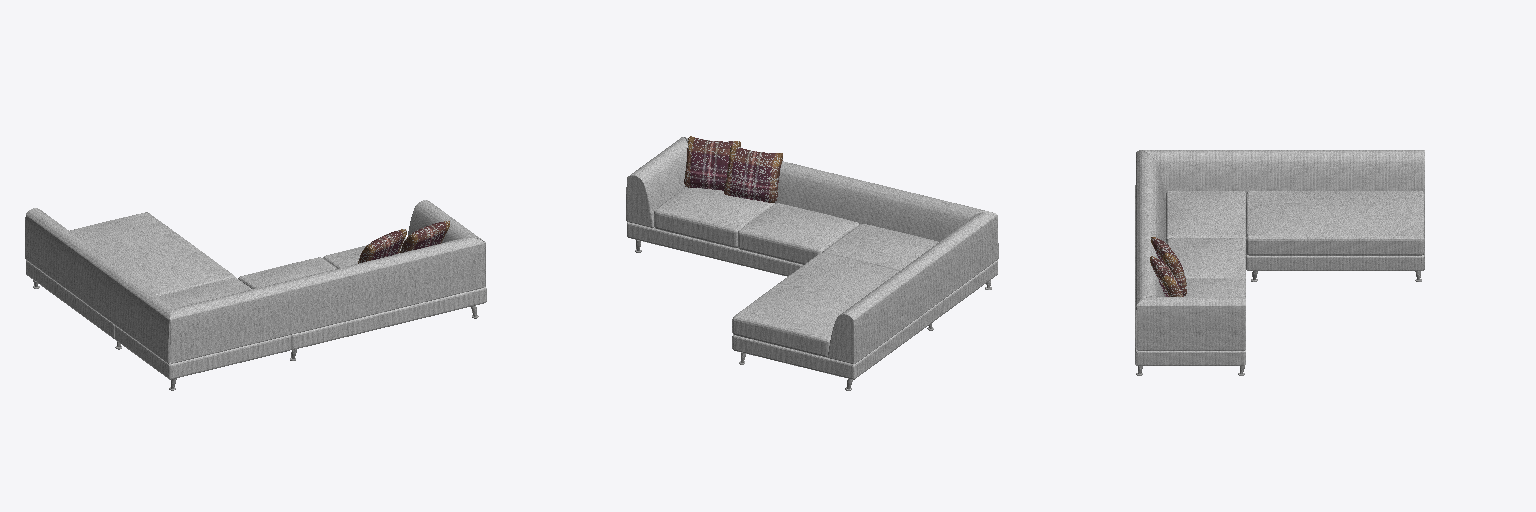
3 views of the same model, side by side, from view 1: azimuth 30°, elevation 25°; view 2: azimuth 150°, elevation 25°; view 3: azimuth 270°, elevation 25° (orthographic).
Visible parts, largest first — view 1: mesh53_mesh53-geometry, mesh2_mesh2-geometry, mesh55_mesh55-geometry, mesh54_mesh54-geometry, mesh1_mesh1-geometry, mesh56_mesh56-geometry, mesh57_mesh57-geometry, mesh58_mesh58-geometry; view 2: mesh53_mesh53-geometry, mesh2_mesh2-geometry, mesh1_mesh1-geometry, mesh55_mesh55-geometry, mesh56_mesh56-geometry, mesh54_mesh54-geometry, mesh57_mesh57-geometry, mesh58_mesh58-geometry; view 3: mesh2_mesh2-geometry, mesh53_mesh53-geometry, mesh56_mesh56-geometry, mesh1_mesh1-geometry, mesh55_mesh55-geometry, mesh54_mesh54-geometry, mesh57_mesh57-geometry, mesh58_mesh58-geometry.
Part boxes in pixels (bbox=[...]): mesh53_mesh53-geometry: bbox=[25, 208, 484, 363]; mesh2_mesh2-geometry: bbox=[70, 212, 252, 308]; mesh55_mesh55-geometry: bbox=[26, 260, 290, 379]; mesh54_mesh54-geometry: bbox=[291, 287, 486, 349]; mesh1_mesh1-geometry: bbox=[238, 237, 406, 288]; mesh56_mesh56-geometry: bbox=[408, 200, 485, 286]; mesh57_mesh57-geometry: bbox=[358, 229, 406, 263]; mesh58_mesh58-geometry: bbox=[400, 221, 449, 252]; mesh53_mesh53-geometry: bbox=[684, 137, 998, 363]; mesh2_mesh2-geometry: bbox=[732, 224, 938, 357]; mesh1_mesh1-geometry: bbox=[654, 187, 859, 264]; mesh55_mesh55-geometry: bbox=[732, 260, 997, 379]; mesh56_mesh56-geometry: bbox=[626, 137, 687, 227]; mesh54_mesh54-geometry: bbox=[627, 222, 802, 276]; mesh57_mesh57-geometry: bbox=[724, 145, 782, 202]; mesh58_mesh58-geometry: bbox=[684, 136, 740, 190]; mesh2_mesh2-geometry: bbox=[1166, 191, 1424, 255]; mesh53_mesh53-geometry: bbox=[1135, 150, 1424, 348]; mesh56_mesh56-geometry: bbox=[1136, 297, 1245, 350]; mesh1_mesh1-geometry: bbox=[1166, 238, 1245, 296]; mesh55_mesh55-geometry: bbox=[1246, 253, 1424, 270]; mesh54_mesh54-geometry: bbox=[1135, 348, 1245, 365]; mesh57_mesh57-geometry: bbox=[1151, 237, 1186, 295]; mesh58_mesh58-geometry: bbox=[1150, 256, 1183, 296].
Bounding box in the file's own units: 0.7675 × 0.213 × 0.6046.
4 materials, 2 textured.